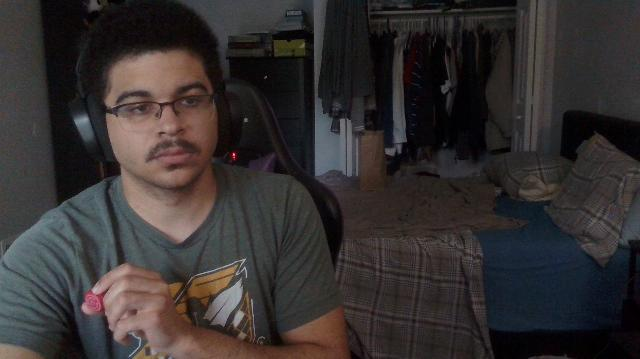cap: (86, 291, 104, 313)
